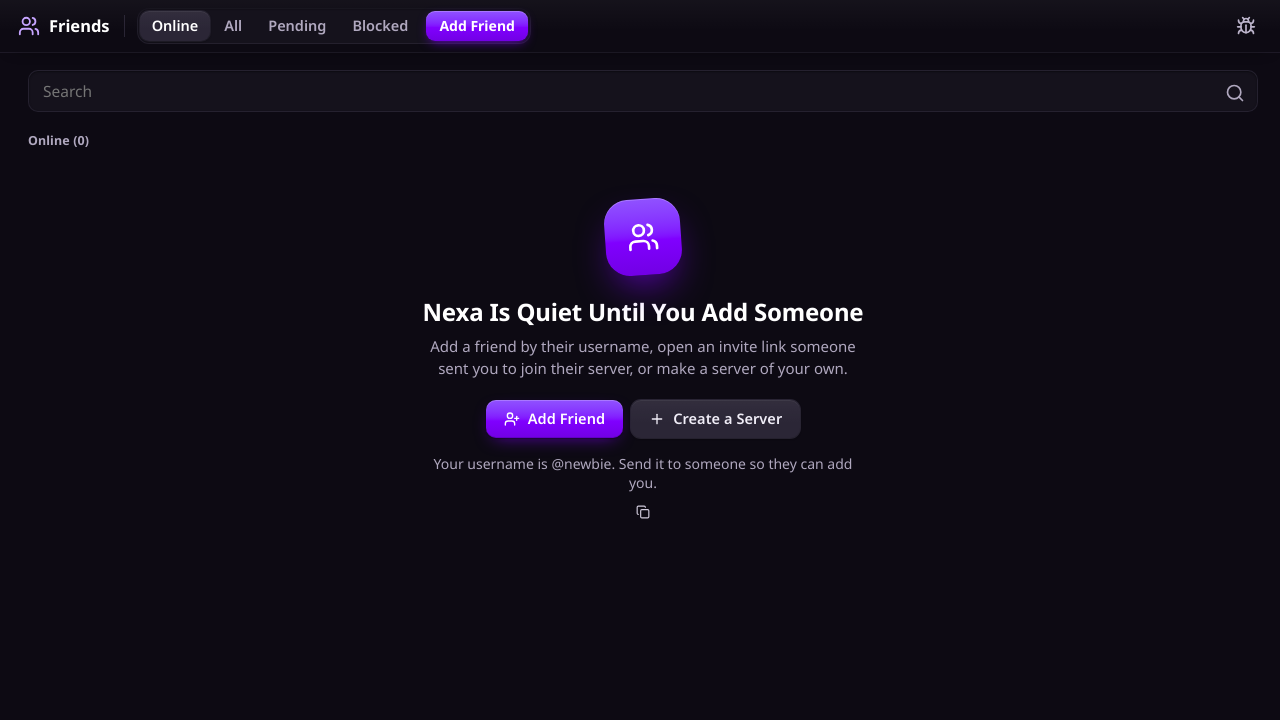
Test: FriendsPage for a new account › says what to do first instead of that nobody is online
The image size is (1280, 720).
Expected: the element with test id "friends-first-run" is shown, [413,199,873,528]
Expected: the text "@newbie" is shown, [434,454,852,492]
// its Add friend goes straight to the form
Click the button "Add Friend". click: {"x": 554, "y": 419}
box: [486,400,623,438]
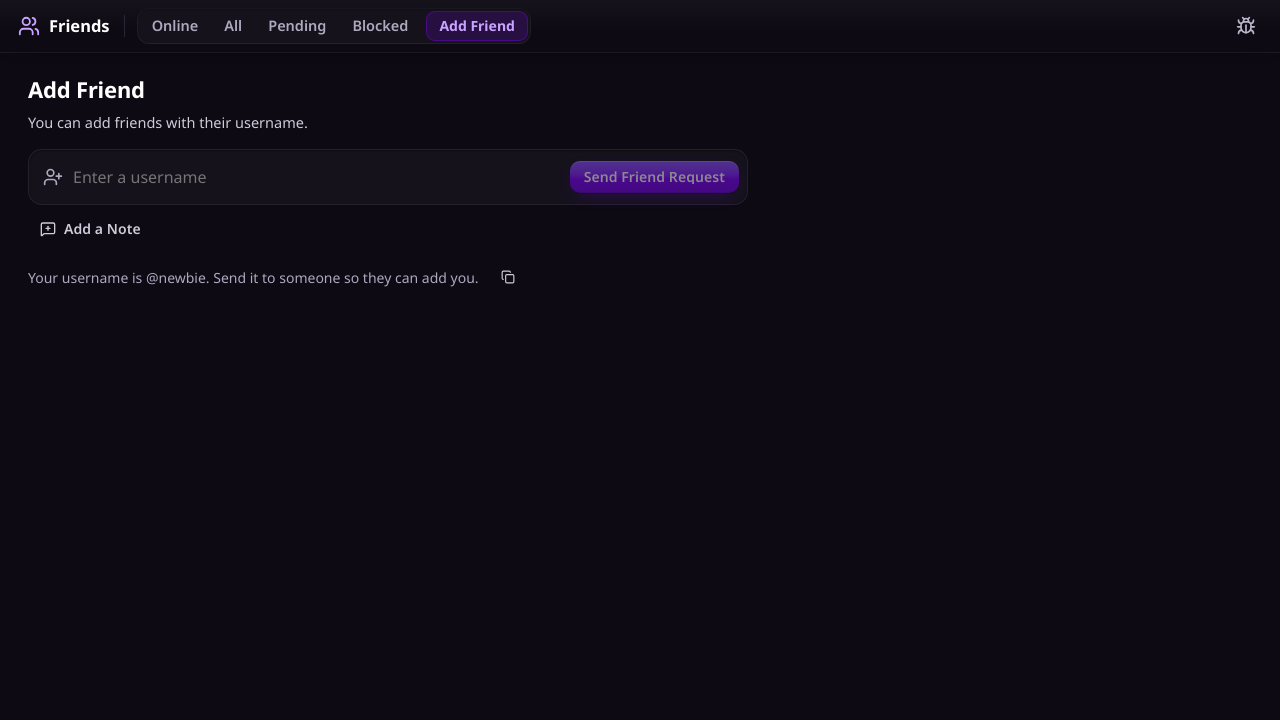
Expected: the field labelled "Enter a username" is shown, [71,165,562,189]
